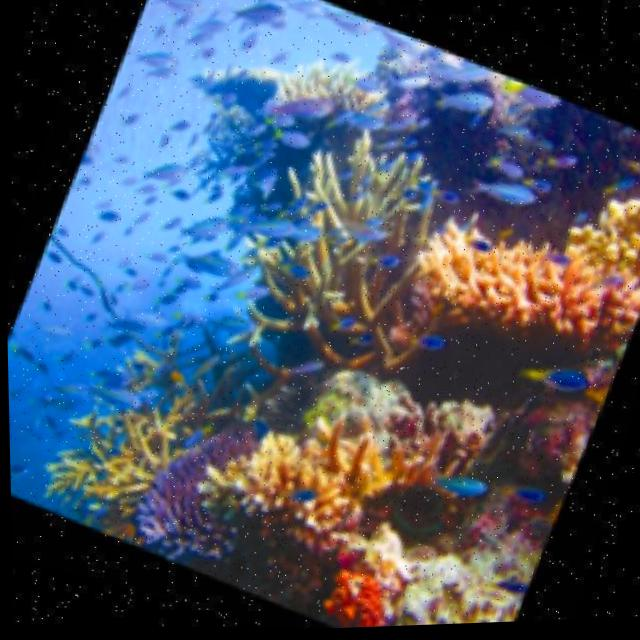Bleached Coral: (267, 57, 377, 110)
Healthy Coral: (172, 97, 477, 419), (390, 190, 640, 403), (177, 392, 415, 590), (105, 405, 270, 597), (35, 366, 186, 541), (280, 529, 411, 632)
